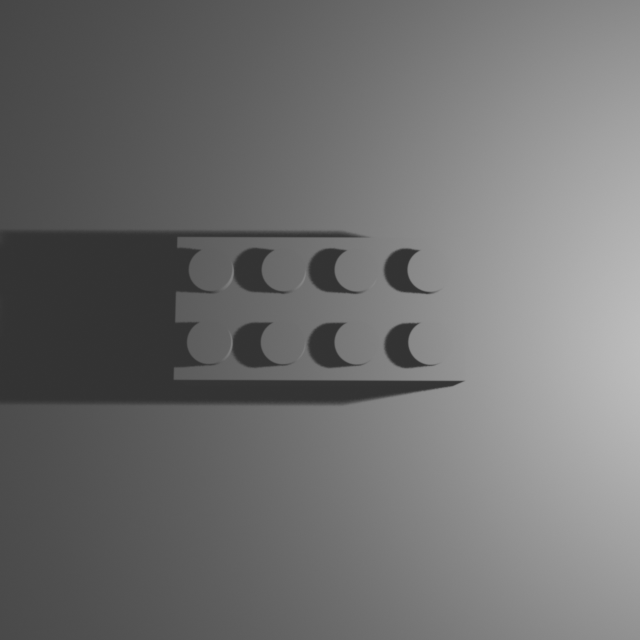lego_2x4: (171, 234, 468, 386)
